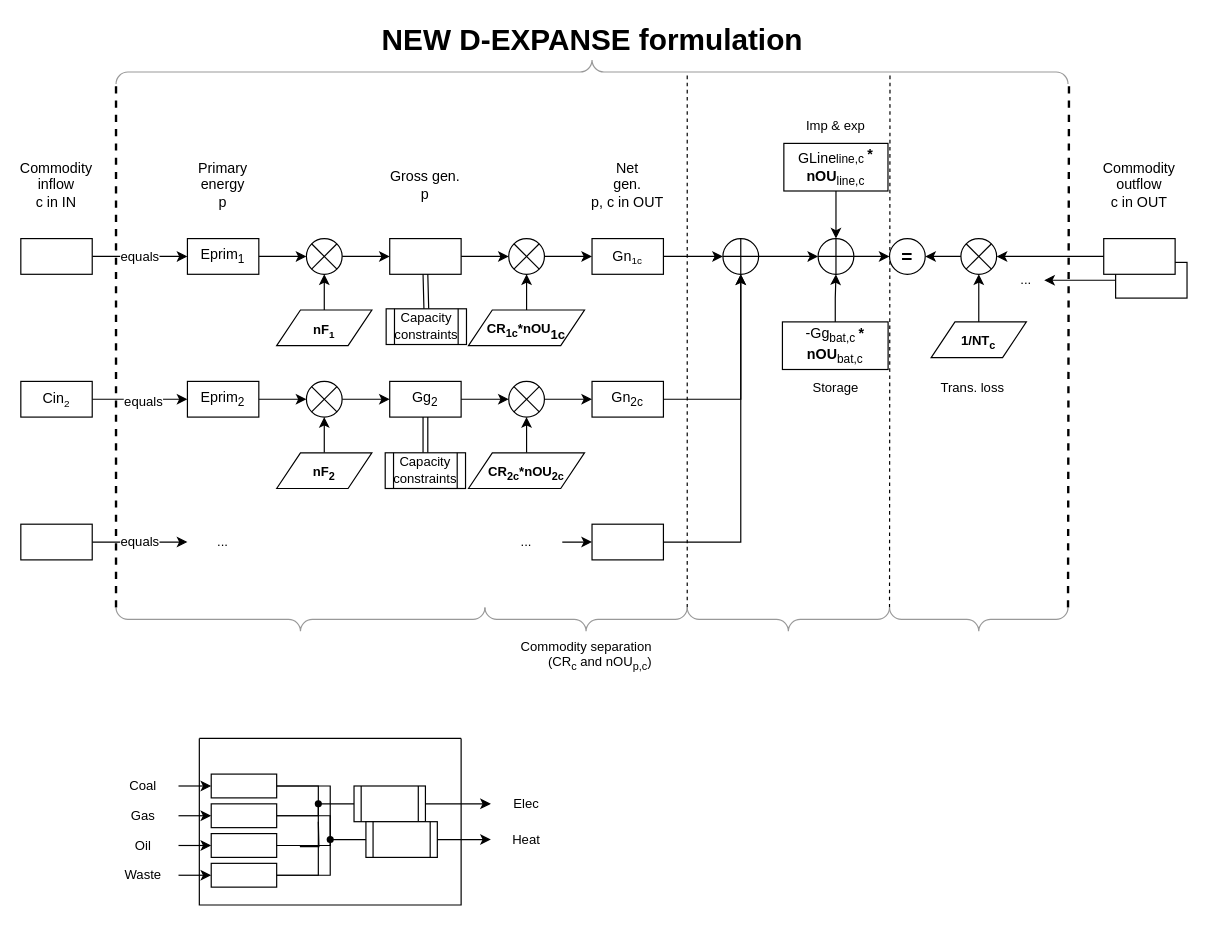
The diagram is 1208 pixels wide and 926 high, and some of its shapes have lost their labels. The box of each missing label's shape, as (x1, y1, x2, y2) in pixels:
Balance: (686, 606, 890, 631)
Cin 1: (20, 237, 92, 274)
Cin c: (20, 523, 92, 560)
Cout 1: (1103, 237, 1175, 274)
Cout c: (1114, 261, 1187, 298)
Gg 1: (389, 237, 461, 274)
Gn pc: (591, 523, 663, 560)
Individual processes (w/ cap constraints): (115, 606, 485, 631)
Transmission: (888, 606, 1068, 631)
